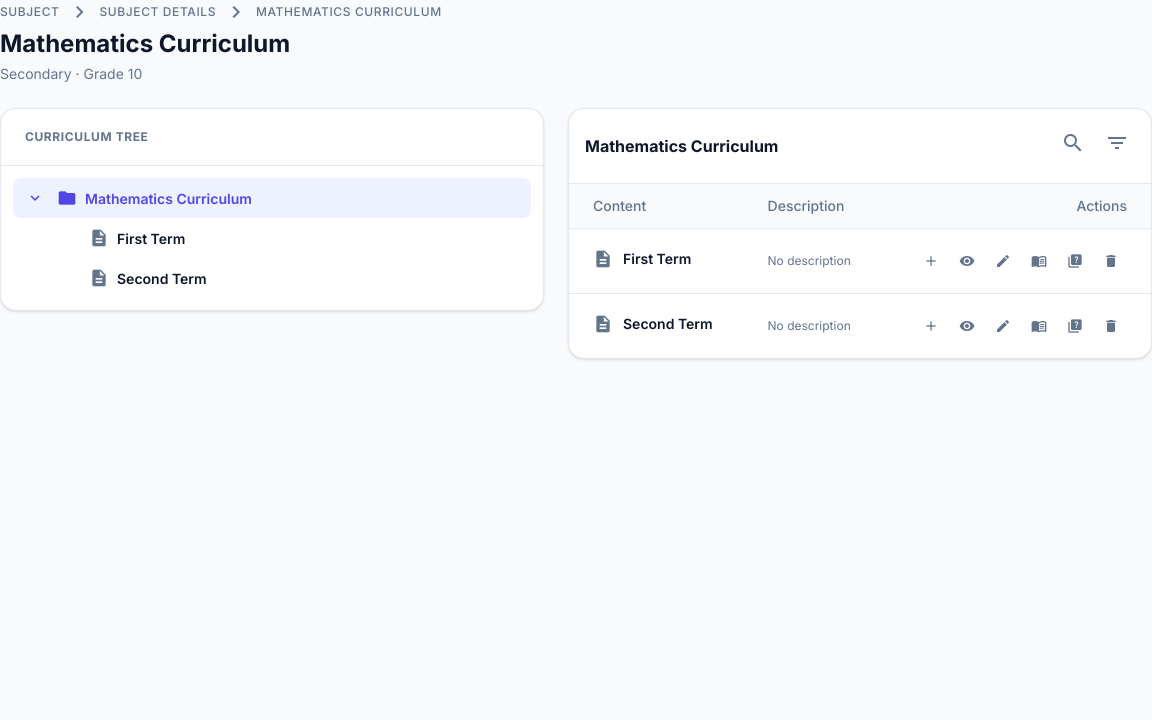
Test: TenantSubjectCurriculumComponent › opens a confirmation modal before deleting a curriculum table item
This screenshot has width=1152, height=720.
Step 1. Click the 1st button with class "curriculum-table-action--danger" → (1111,261), box [1095,245,1127,277]
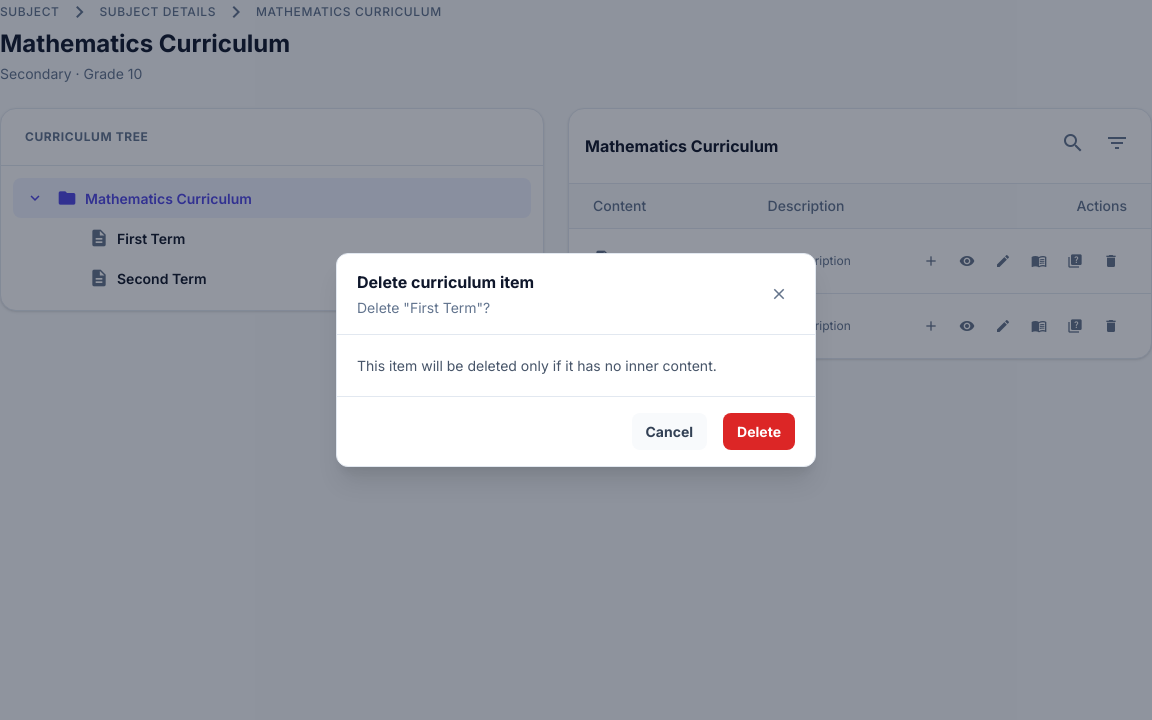
Expected: the text "Delete curriculum item" is shown, [357,270,534,294]
Expected: the text "Delete \"First Term\"?" is shown, [357,299,490,316]
Expected: the button with class "curriculum-modal-danger" is enabled
Step 2. Click the button with class "curriculum-modal-danger" → (759,432), box [723,413,795,450]
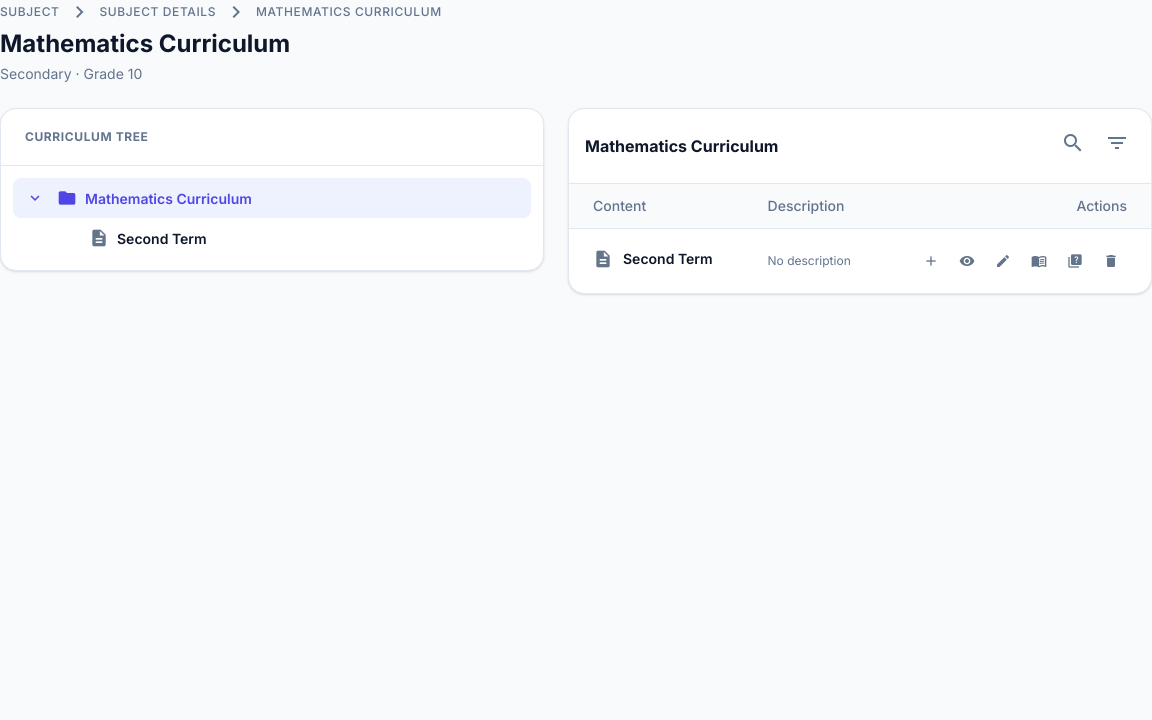
Expected: the button "Second Term No description" is shown, [569,228,1151,293]
Expected: the text "First Term" is gone
